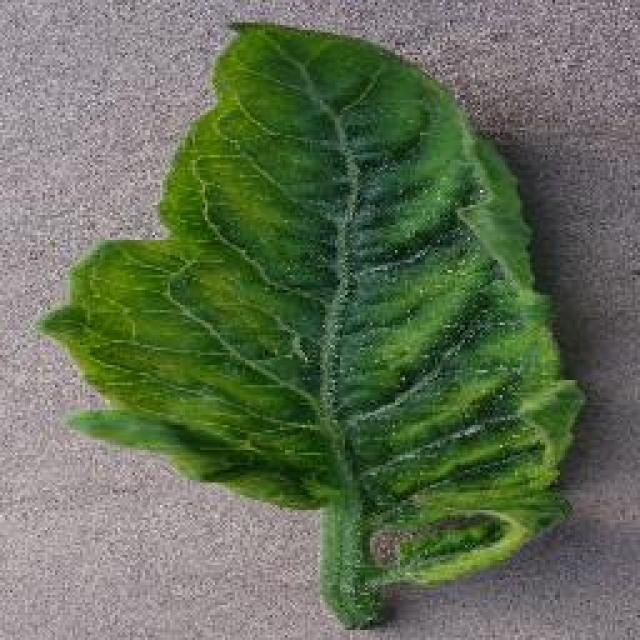Tomato yellow virus leaf: (40, 19, 585, 584)
